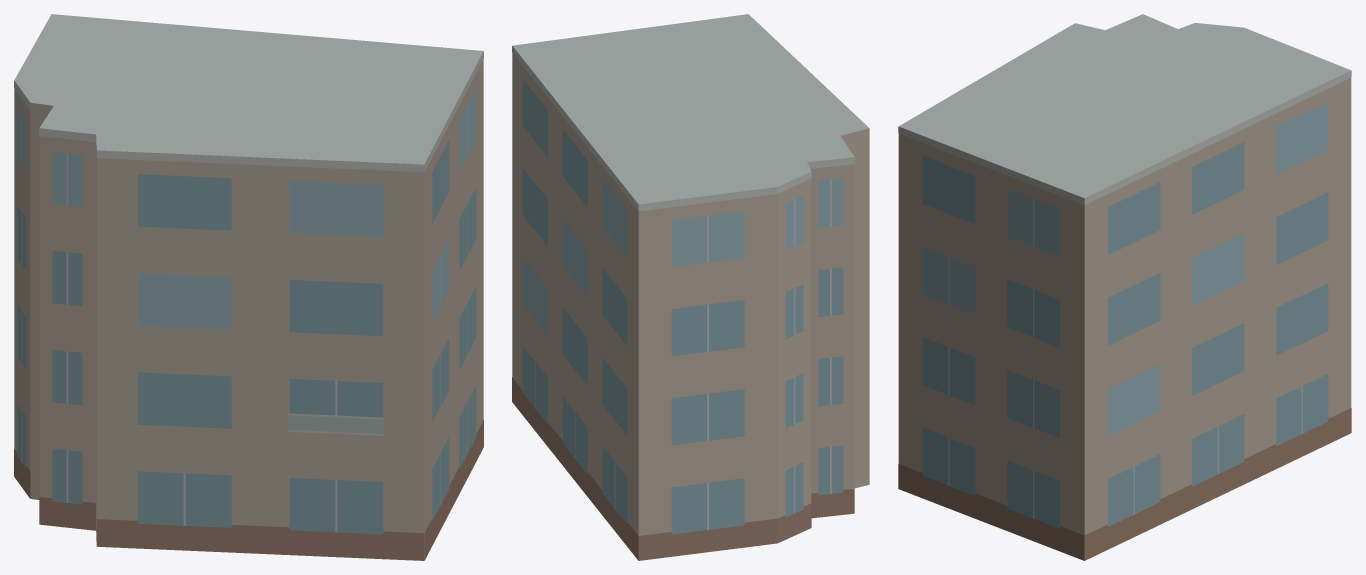
File: survey-upis-32867627.glb
3 views of the same model, side by side, from view 1: azimuth 30°, elevation 25°; view 2: azimuth 150°, elevation 25°; view 3: azimuth 270°, elevation 25° (orthographic). The views are drawn at different scales.
Visible parts, largest first — view 1: survey-upis-32867627.tmp; view 2: survey-upis-32867627.tmp; view 3: survey-upis-32867627.tmp.
Part boxes in pixels (x1,y1,x2,y2): survey-upis-32867627.tmp: (14, 14, 483, 560); survey-upis-32867627.tmp: (512, 14, 869, 560); survey-upis-32867627.tmp: (898, 14, 1351, 560).
Bounding box in the file's own units: 13.63 × 12.5 × 14.16.
